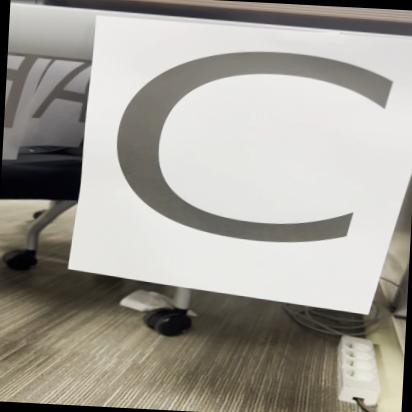seat: (87, 10, 412, 320)
